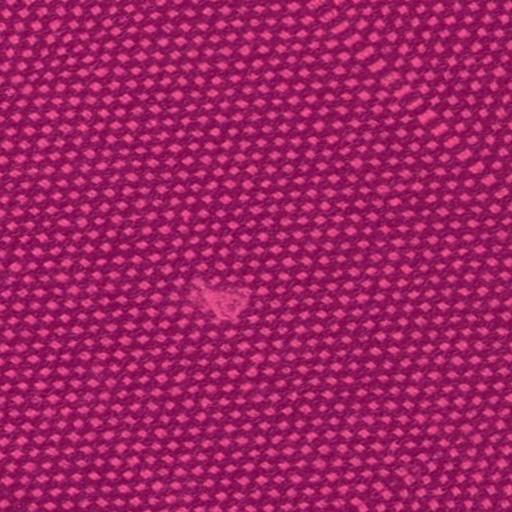knot: (187, 269, 262, 329)
